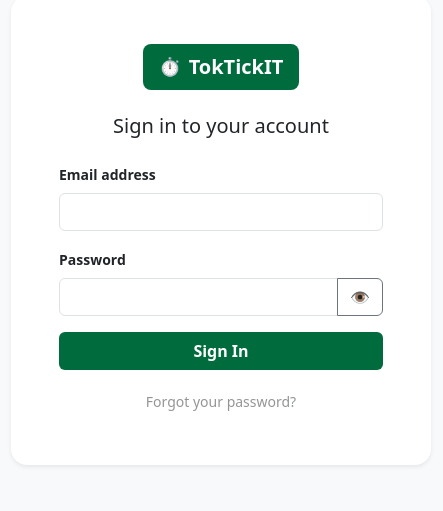
LoginPage › validates required fields
Step 1. Click the button "Sign In" → click(221, 350), box [59,332,383,370]
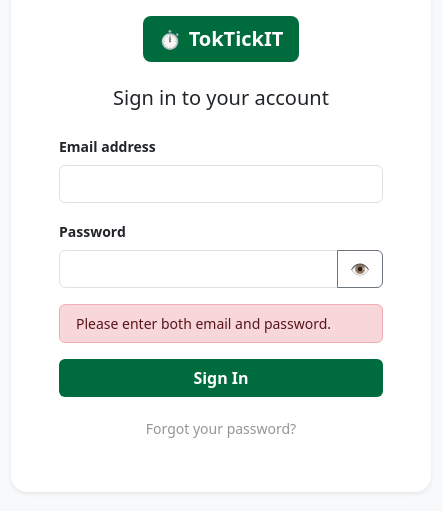
Now the message reads "Please enter both email and password.", box [76,314,331,333]
